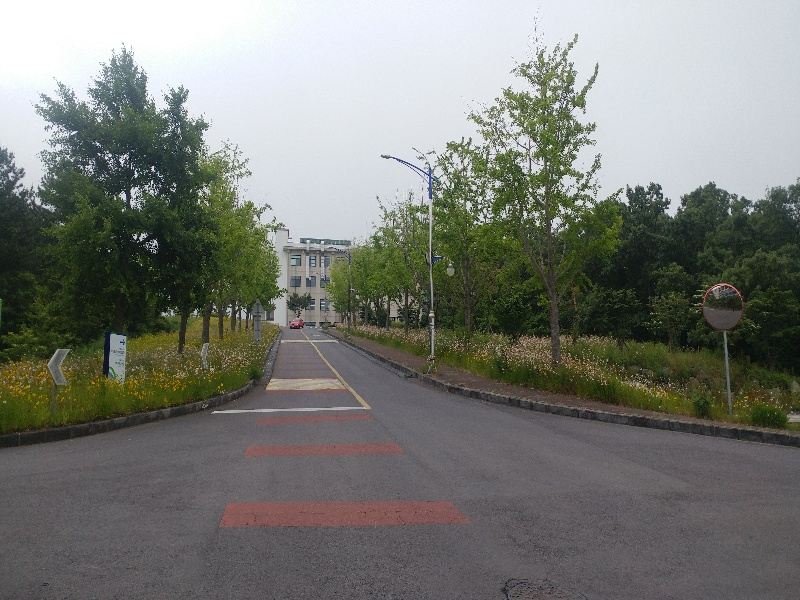College of Medicine: (270, 222, 400, 321)
